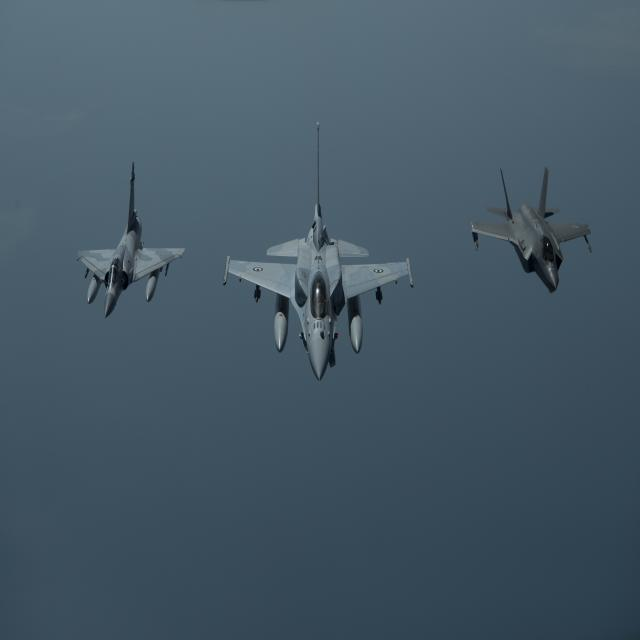MIL_Plane: (223, 122, 413, 382), (77, 162, 185, 318), (470, 165, 592, 294)
